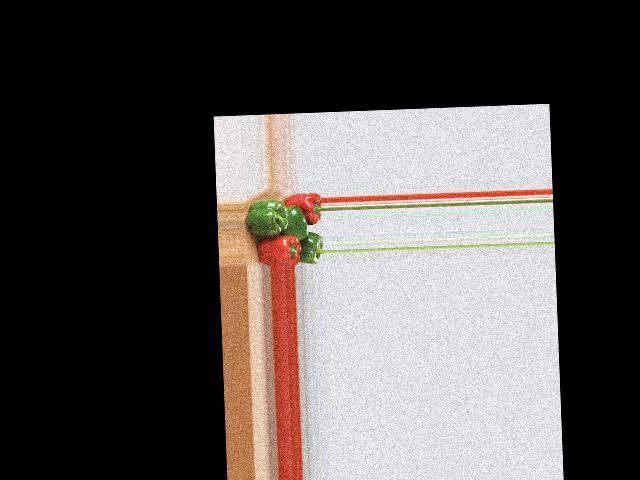bell_pepper: (253, 233, 300, 266)
